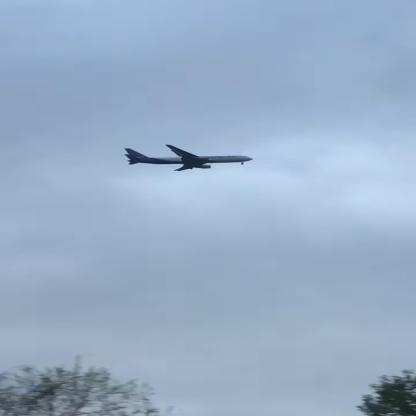plane: (115, 135, 275, 183)
